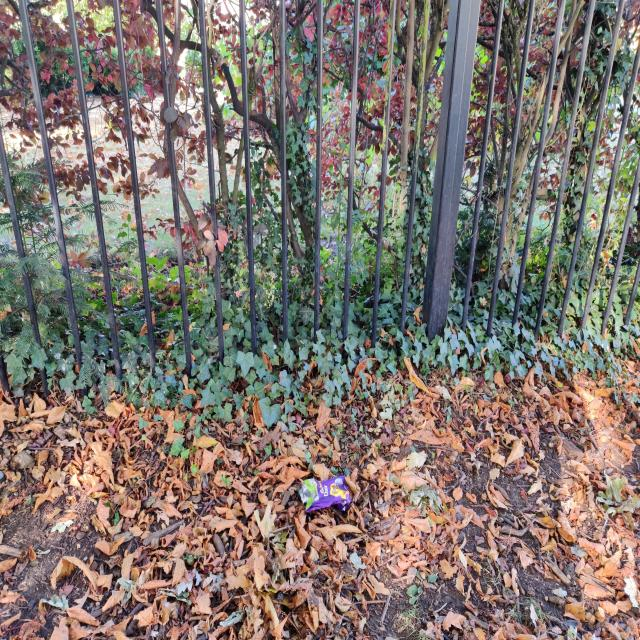litter: (296, 477, 352, 520)
